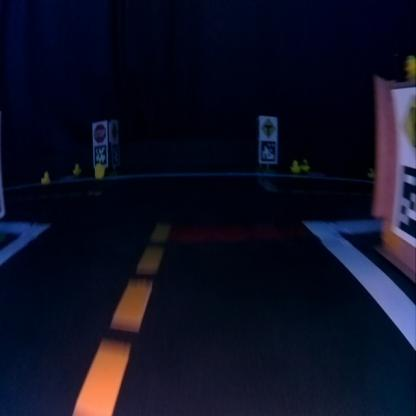Duckie: (405, 54, 413, 74), (290, 160, 300, 172), (96, 166, 104, 178), (40, 173, 50, 181), (302, 158, 308, 170), (72, 164, 78, 174)
Intersection sign: (260, 115, 276, 138)
QR code: (394, 164, 414, 241), (261, 140, 275, 160), (92, 146, 106, 164), (110, 146, 119, 164)
Stop sign: (93, 120, 105, 142)
